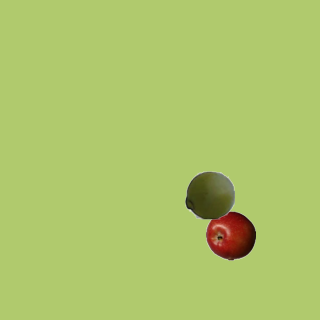Apple Braeburn: (205, 210, 255, 260)
Grape White 4: (184, 169, 234, 219)
